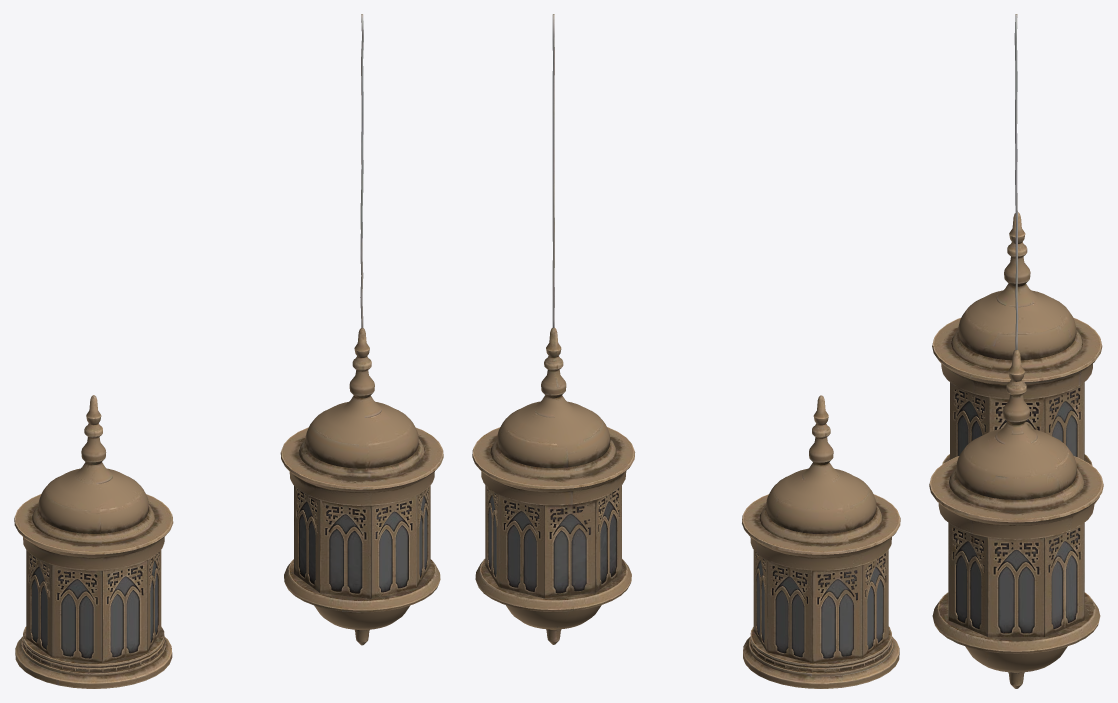
File: brass_pendant_lamp.glb
3 views of the same model, side by side, from view 1: azimuth 30°, elevation 25°; view 2: azimuth 150°, elevation 25°; view 3: azimuth 270°, elevation 25° (orthographic). The views are drawn at different scales.
Visible parts, largest first — view 1: Cylinder.005, Cylinder.007, Plane.004, Plane.005, Plane.007, Plane.006, Cylinder.008, Cylinder.006, Cylinder.009; view 2: Cylinder.005, Cylinder.007, Plane.004, Plane.005, Plane.007, Plane.006, Cylinder.008, Cylinder.006, Cylinder.009; view 3: Cylinder.005, Cylinder.007, Plane.004, Plane.007, Cylinder.006, Plane.005, Plane.006, Cylinder.009.
Boxes of the visible parts, <box> form: Cylinder.005: <box>280,328,443,505</box>; Cylinder.007: <box>14,395,173,570</box>; Plane.004: <box>294,485,430,598</box>; Plane.005: <box>26,550,161,663</box>; Plane.007: <box>297,489,427,593</box>; Plane.006: <box>29,552,158,658</box>; Cylinder.008: <box>15,626,172,688</box>; Cylinder.006: <box>284,559,440,645</box>; Cylinder.009: <box>360,14,363,328</box>; Cylinder.005: <box>472,328,635,505</box>; Cylinder.007: <box>742,395,900,570</box>; Plane.004: <box>485,485,621,598</box>; Plane.005: <box>753,550,888,663</box>; Plane.007: <box>487,488,618,593</box>; Plane.006: <box>756,552,885,658</box>; Cylinder.008: <box>743,626,899,688</box>; Cylinder.006: <box>475,559,631,644</box>; Cylinder.009: <box>552,14,554,327</box>; Cylinder.005: <box>929,350,1103,539</box>; Cylinder.007: <box>932,212,1102,399</box>; Plane.004: <box>948,523,1084,637</box>; Plane.007: <box>953,528,1079,633</box>; Cylinder.006: <box>932,592,1100,688</box>; Plane.005: <box>950,382,1084,460</box>; Plane.006: <box>954,388,1080,456</box>; Cylinder.009: <box>1014,14,1018,349</box>.
Bounding box in the file's own units: 679 × 1002 × 236.
1 material, 1 textured.
